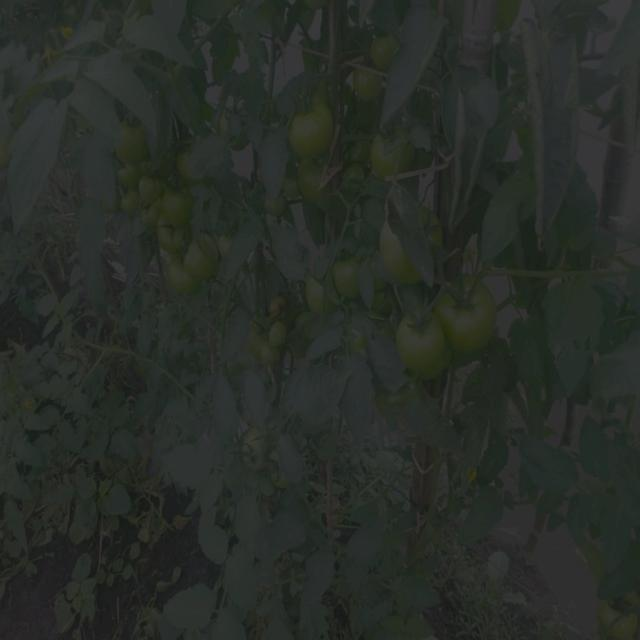tomato: (441, 271, 501, 352), (402, 302, 451, 385), (293, 101, 333, 162), (368, 124, 413, 172), (156, 220, 199, 263), (601, 595, 640, 640), (191, 229, 224, 277), (380, 244, 415, 284), (165, 258, 197, 301), (373, 31, 405, 73), (301, 273, 338, 308), (336, 253, 363, 299), (296, 159, 326, 199), (160, 188, 192, 225), (115, 123, 146, 161), (356, 65, 387, 98), (146, 174, 171, 208), (119, 184, 140, 211), (271, 323, 292, 346), (117, 162, 134, 184)
